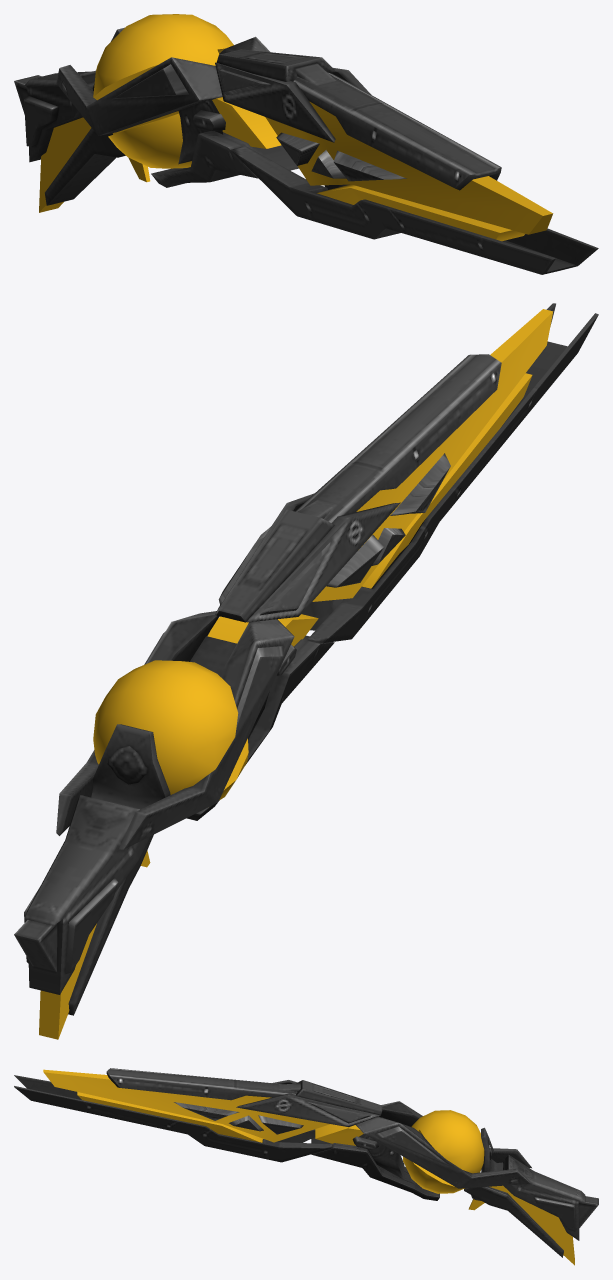
The picture shows the model from 3 angles, top to bottom: view 1: azimuth 30°, elevation 25°; view 2: azimuth 150°, elevation 25°; view 3: azimuth 270°, elevation 25°; orthographic projection. The views are drawn at different scales.
Visible parts, largest first — view 1: Model_Model.001_2; view 2: Model_Model.001_2; view 3: Model_Model.001_2.
Part boxes in pixels (x1=…): Model_Model.001_2: x1=14, y1=14, x2=598, y2=274; Model_Model.001_2: x1=14, y1=303, x2=598, y2=1039; Model_Model.001_2: x1=14, y1=1068, x2=598, y2=1265.
Bounding box in the file's own units: 0.9041 × 2.39 × 6.58.
2 materials, 1 textured.
